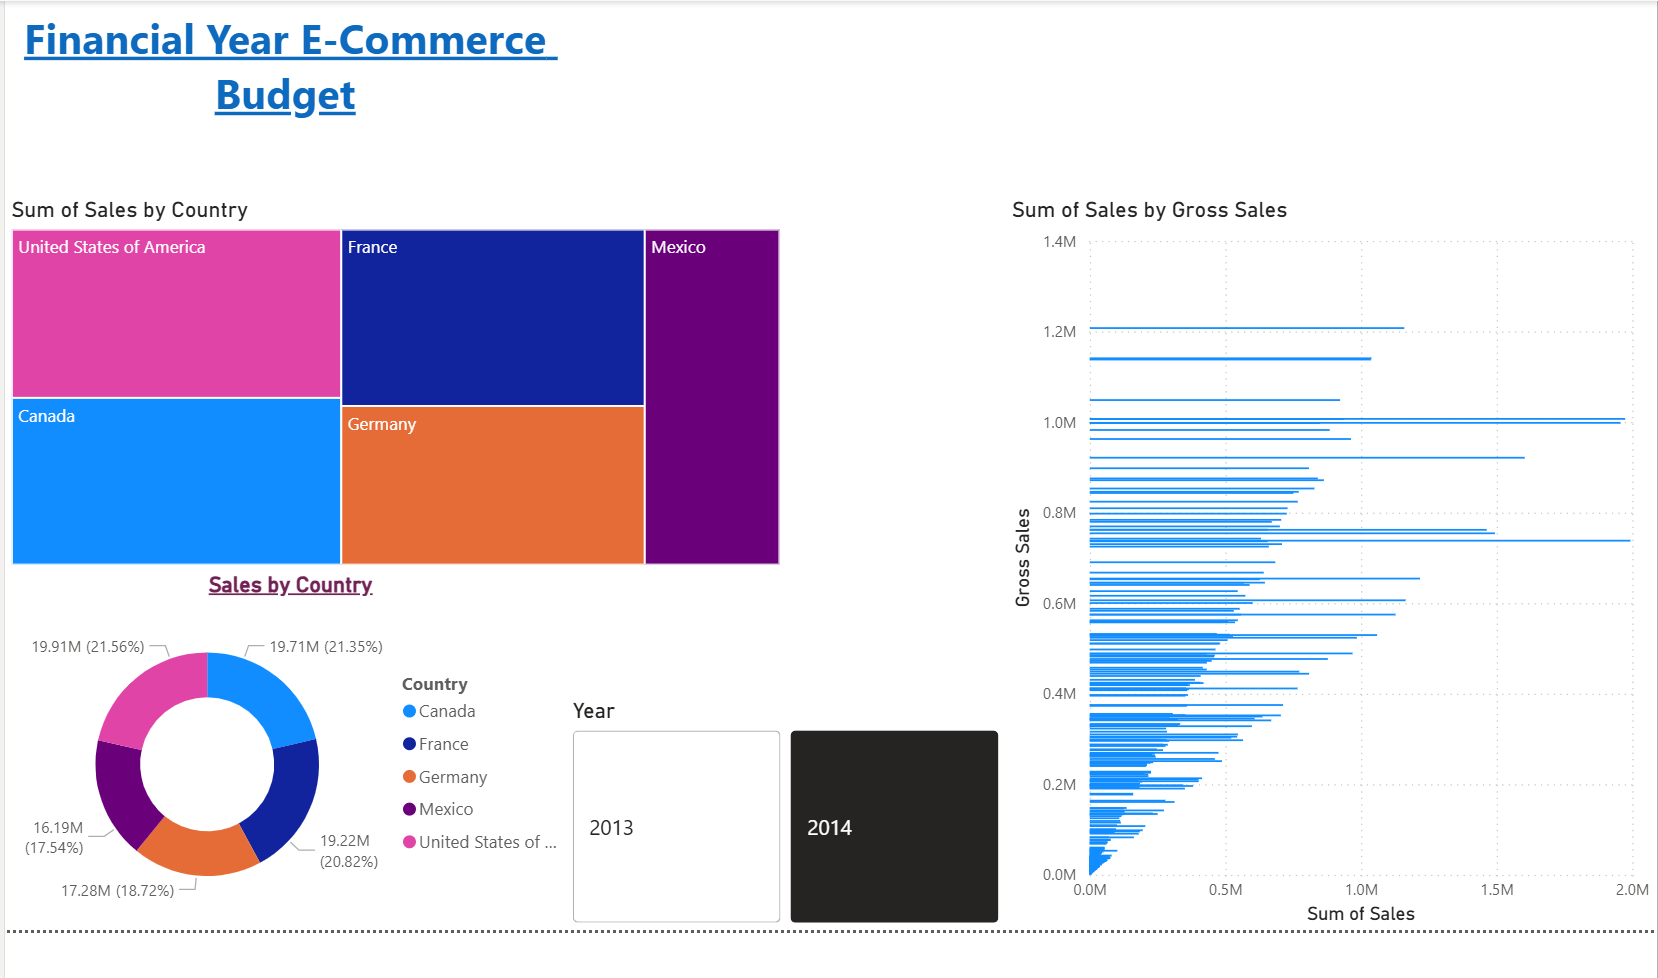

This screenshot's page, from the dashboard's own definition file:
{"tool":"powerbi","page":{"name":"Page 1","canvas":[1280,720],"ordinal":0},"visuals":[{"type":"donutChart","title":"Sales by Country","fields":{"Series":["financials.Country"],"Y":["Sum(financials.Sales)"]},"box":[0,441.5,442.7,278.2],"z":0},{"type":"textbox","box":[0,1.2,434.2,150],"z":2},{"type":"treemap","fields":{"Values":["Sum(financials.Sales)"],"Details":["financials.Country"]},"box":[0,151.2,604.7,290.3],"z":4},{"type":"advancedSlicerVisual","fields":{"Values":["financials.Year"]},"box":[434.2,539.4,341.1,180.2],"z":5},{"type":"barChart","fields":{"Y":["Sum(financials.Sales)"],"Category":["financials.Gross Sales"]},"box":[775.3,151.2,504.3,568.4],"z":6}]}

Visuals, with their boxes on the page's 1280x720 design canvas (x1, y1, x2, y2). These are canvas units, not pixel positions in the 1658x978 screenshot, which may show the page scaled, cropped or inside an application window:
"Sales by Country" donutChart: <bbox>0, 442, 443, 720</bbox>
textbox: <bbox>0, 1, 434, 151</bbox>
treemap - Sum(financials.Sales) x financials.Country: <bbox>0, 151, 605, 442</bbox>
advancedSlicerVisual - financials.Year: <bbox>434, 539, 775, 720</bbox>
barChart - Sum(financials.Sales) x financials.Gross Sales: <bbox>775, 151, 1280, 720</bbox>
